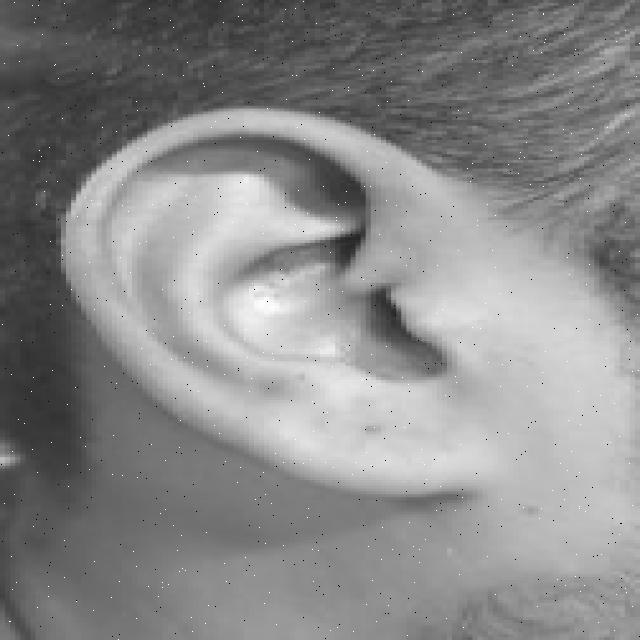ear: (61, 106, 472, 486)
